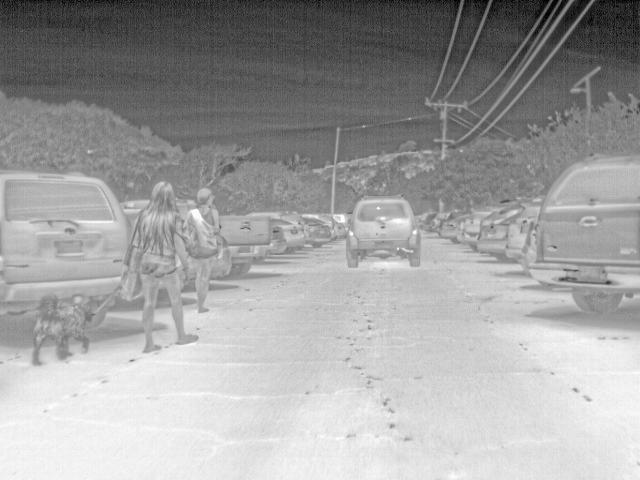car: (1, 168, 127, 327), (521, 153, 640, 313), (346, 195, 422, 269), (214, 213, 270, 276), (463, 206, 522, 248), (505, 208, 541, 264), (478, 211, 523, 255), (276, 218, 306, 252), (438, 210, 466, 243), (304, 218, 333, 248), (270, 227, 287, 254), (430, 213, 448, 230), (420, 212, 433, 230), (330, 220, 344, 236), (337, 213, 351, 225)
dog: (29, 294, 97, 368)
person: (126, 180, 200, 355), (183, 186, 221, 313)
